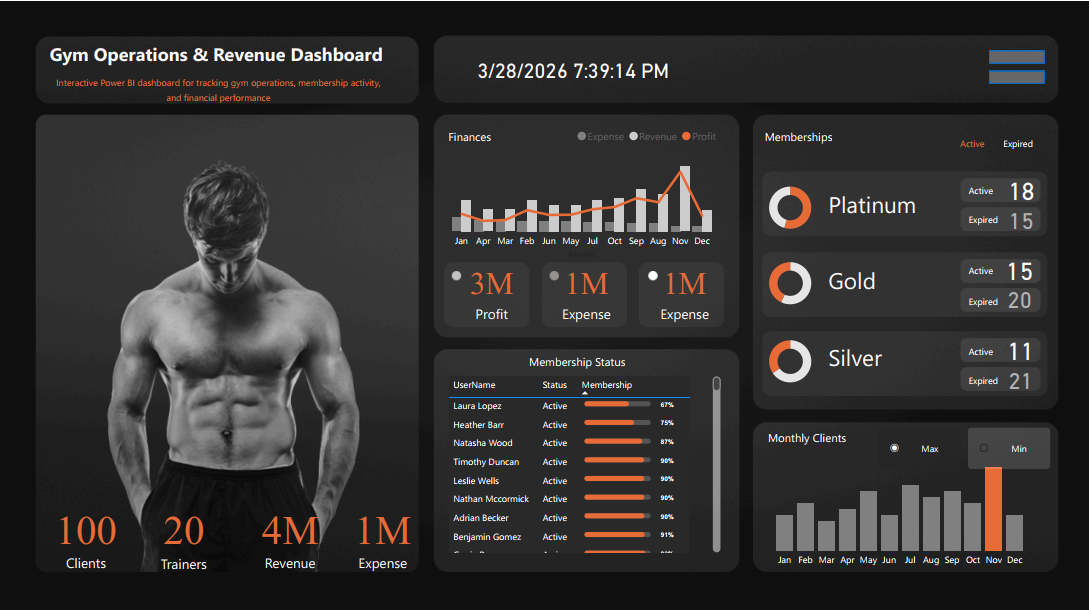

The dashboard page shown, as its layout file describes it:
{"tool":"powerbi","page":{"name":"Page 1","canvas":[1280,720],"ordinal":0},"visuals":[{"type":"card","fields":{"Values":["_Measures.Users_Count"]},"box":[43.6,584,114.7,90.7],"z":0},{"type":"card","fields":{"Values":["Count(Users.Trainer Name)"]},"box":[158.2,584,115.6,92.4],"z":1000},{"type":"card","fields":{"Values":["_Measures.Revenue"]},"box":[250.7,559.1,180.4,140.4],"z":2000},{"type":"card","fields":{"Values":["_Measures.Expense"]},"box":[360,559.1,180.4,140.4],"z":3000},{"type":"card","fields":{"Values":["_Measures.Expense"]},"box":[627.6,296.9,123.6,88],"z":4000},{"type":"card","fields":{"Values":["_Measures.Profit"]},"box":[516.4,296.9,123.6,88],"z":5000},{"type":"card","fields":{"Values":["_Measures.Expense"]},"box":[743.1,296.9,123.6,88],"z":6000},{"type":"lineClusteredColumnComboChart","fields":{"Category":["Calendar.Month"],"Y":["Measurer.Expense","Measurer.Revenue"],"Y2":["Measurer.Profit"]},"box":[516.4,138.7,335.1,170.7],"z":7000},{"type":"textbox","box":[521.8,144.9,67.6,27.6],"z":8000},{"type":"clusteredColumnChart","fields":{"Y":["Measurer.Users_Count"],"Category":["Calendar.Month"]},"box":[897.8,527.1,320,149.3],"z":9000},{"type":"textbox","box":[897.8,499.6,113.8,27.6],"z":10000},{"type":"advancedSlicerVisual","fields":{"Values":["Min_Max_Search.Type"]},"box":[1027.6,496.9,213.3,59.6],"z":11000},{"type":"tableEx","fields":{"Values":["Users.UserName","Users.Status","Measurer.SVG_BarChart1"]},"box":[521.7,437.3,330.3,217.1],"z":12000},{"type":"textbox","box":[617.4,409.5,133.8,27.8],"z":13000},{"type":"textbox","box":[969.3,215,154.3,55.6],"z":14000},{"type":"textbox","box":[969.3,304.6,154.3,55.6],"z":15000},{"type":"textbox","box":[969.3,396.1,154.3,55.6],"z":16000},{"type":"donutChart","fields":{"Y":["Measure.User_Platinum"],"Category":["Users.Status"]},"box":[869.1,206.8,120.4,72],"z":17000},{"type":"donutChart","fields":{"Y":["Measure.User_Gold"],"Category":["Users.Status"]},"box":[869.1,296.3,120.4,72],"z":18000},{"type":"donutChart","fields":{"Y":["Measure.User_Silver"],"Category":["Users.Status"]},"box":[869.1,387.9,120.4,72],"z":19000},{"type":"textbox","box":[894.1,145.1,133.8,27.8],"z":20000},{"type":"card","fields":{"Values":["Measure.Platinum_Active"]},"box":[1142.1,204.8,118.3,34],"z":21000},{"type":"card","fields":{"Values":["Measure.Platinum_Expired"]},"box":[1142.1,239.7,118.3,34],"z":22000},{"type":"card","fields":{"Values":["Measure.Gold_Active"]},"box":[1139.8,299.1,118.3,34],"z":23000},{"type":"card","fields":{"Values":["Measure.Gold_Expired"]},"box":[1139.8,334.1,118.3,34],"z":24000},{"type":"card","fields":{"Values":["Measure.Silver_Active"]},"box":[1140.8,393.8,118.3,34],"z":25000},{"type":"card","fields":{"Values":["Measure.Silver_Expired"]},"box":[1140.8,428.8,118.3,34],"z":26000},{"type":"textbox","box":[1133.8,302.3,41.5,27.7],"z":27000},{"type":"textbox","box":[1134.2,339.2,58.3,28.3],"z":28000},{"type":"textbox","box":[1134.2,431.7,58.3,28.3],"z":29000},{"type":"textbox","box":[1133.8,396.9,41.5,27.7],"z":30000},{"type":"textbox","box":[1134.2,242.3,58.5,28.5],"z":31000},{"type":"textbox","box":[1133.8,207.7,41.5,27.7],"z":32000},{"type":"textbox","box":[1123.8,151.5,51.5,30],"z":33000},{"type":"textbox","box":[1175.4,151.5,58.5,28.5],"z":34000},{"type":"textbox","box":[53.1,42.3,408.5,60.8],"z":35000},{"type":"textbox","box":[57.8,80.9,397.3,45.3],"z":36000},{"type":"card","fields":{"Values":["Measure.Local_Time_BST"]},"box":[516.2,45.4,315.4,71.5],"z":37000},{"type":"shape","box":[1163.1,57.7,64.6,15.4],"z":38000},{"type":"shape","box":[1163.1,81.5,64.6,15.4],"z":39000}]}

Visuals, with their boxes in screenshot pixels (x1, y1, x2, y2), scaled from the page's 1280x720 canvas onto the 1089x610 screenshot:
card - _Measures.Users_Count: select_region(37, 495, 135, 572)
card - Count(Users.Trainer Name): select_region(135, 495, 233, 573)
card - _Measures.Revenue: select_region(213, 474, 367, 593)
card - _Measures.Expense: select_region(306, 474, 460, 593)
card - _Measures.Expense: select_region(534, 252, 639, 326)
card - _Measures.Profit: select_region(439, 252, 544, 326)
card - _Measures.Expense: select_region(632, 252, 737, 326)
lineClusteredColumnComboChart - Calendar.Month x Measurer.Expense: select_region(439, 118, 724, 262)
textbox: select_region(444, 123, 501, 146)
clusteredColumnChart - Measurer.Users_Count x Calendar.Month: select_region(764, 447, 1036, 573)
textbox: select_region(764, 423, 861, 447)
advancedSlicerVisual - Min_Max_Search.Type: select_region(874, 421, 1056, 471)
tableEx - Users.UserName x Users.Status: select_region(444, 370, 725, 554)
textbox: select_region(525, 347, 639, 370)
textbox: select_region(825, 182, 956, 229)
textbox: select_region(825, 258, 956, 305)
textbox: select_region(825, 336, 956, 383)
donutChart - Measure.User_Platinum x Users.Status: select_region(739, 175, 842, 236)
donutChart - Measure.User_Gold x Users.Status: select_region(739, 251, 842, 312)
donutChart - Measure.User_Silver x Users.Status: select_region(739, 329, 842, 390)
textbox: select_region(761, 123, 875, 146)
card - Measure.Platinum_Active: select_region(972, 174, 1072, 202)
card - Measure.Platinum_Expired: select_region(972, 203, 1072, 232)
card - Measure.Gold_Active: select_region(970, 253, 1070, 282)
card - Measure.Gold_Expired: select_region(970, 283, 1070, 312)
card - Measure.Silver_Active: select_region(971, 334, 1071, 362)
card - Measure.Silver_Expired: select_region(971, 363, 1071, 392)
textbox: select_region(965, 256, 1000, 280)
textbox: select_region(965, 287, 1015, 311)
textbox: select_region(965, 366, 1015, 390)
textbox: select_region(965, 336, 1000, 360)
textbox: select_region(965, 205, 1015, 229)
textbox: select_region(965, 176, 1000, 199)
textbox: select_region(956, 128, 1000, 154)
textbox: select_region(1000, 128, 1050, 152)
textbox: select_region(45, 36, 393, 87)
textbox: select_region(49, 69, 387, 107)
card - Measure.Local_Time_BST: select_region(439, 38, 708, 99)
shape: select_region(990, 49, 1045, 62)
shape: select_region(990, 69, 1045, 82)
